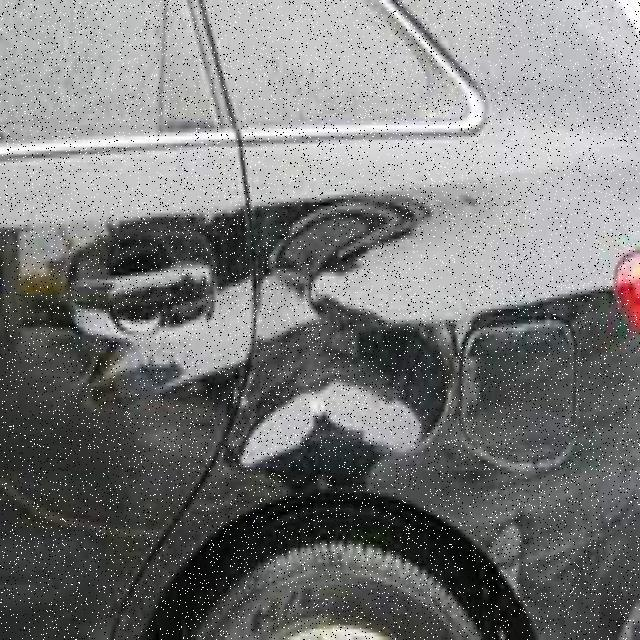quaterpanel-dent: (249, 136, 604, 632)
